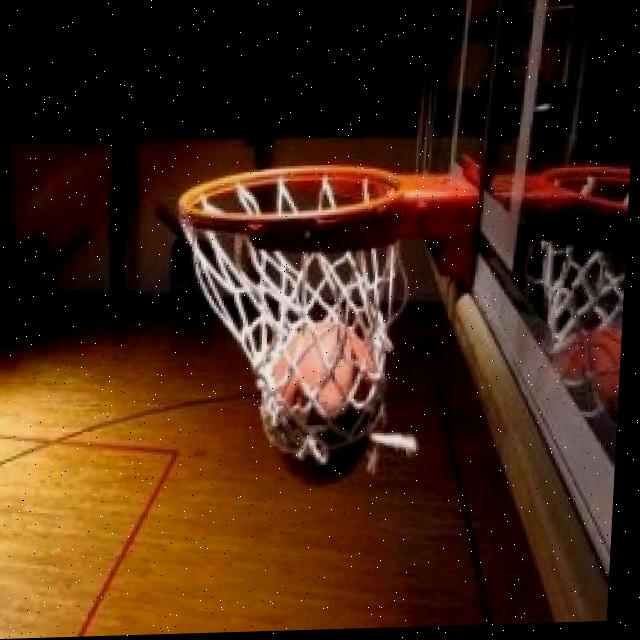basketball: (253, 319, 399, 497)
hoop: (146, 151, 435, 498), (147, 151, 433, 453)
